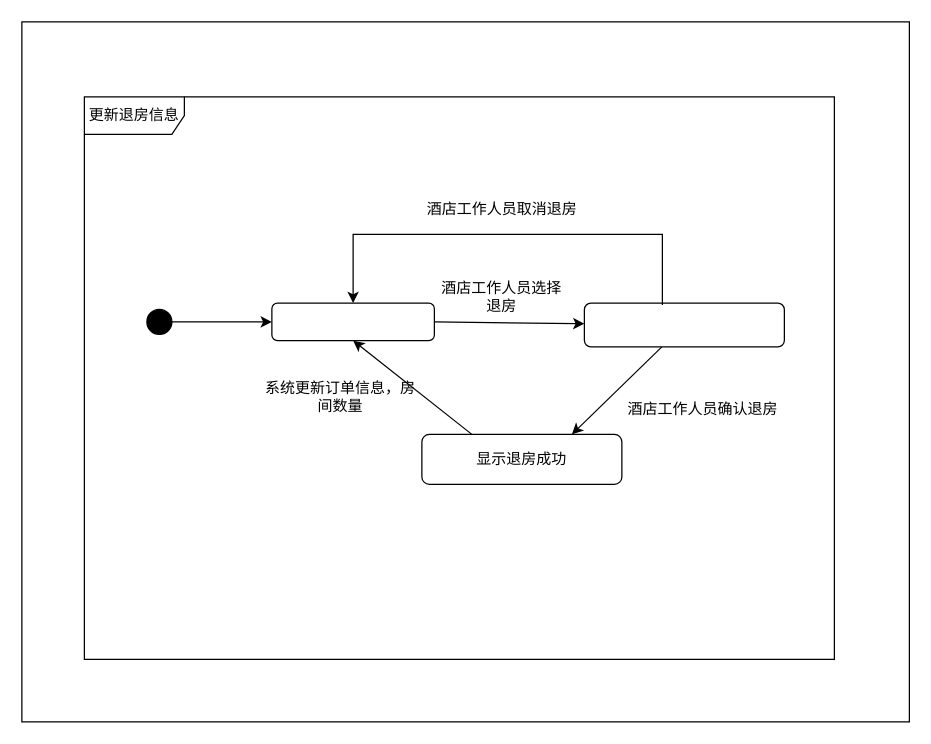
Some shapes in this 931 by 744 pixel diagram are drawn without their labels. The box of each missing label's shape, as (x1, y1, x2, y2) in pixels:
提示确认退房: (583, 302, 784, 347)
显示酒店订单列表: (271, 302, 434, 341)
